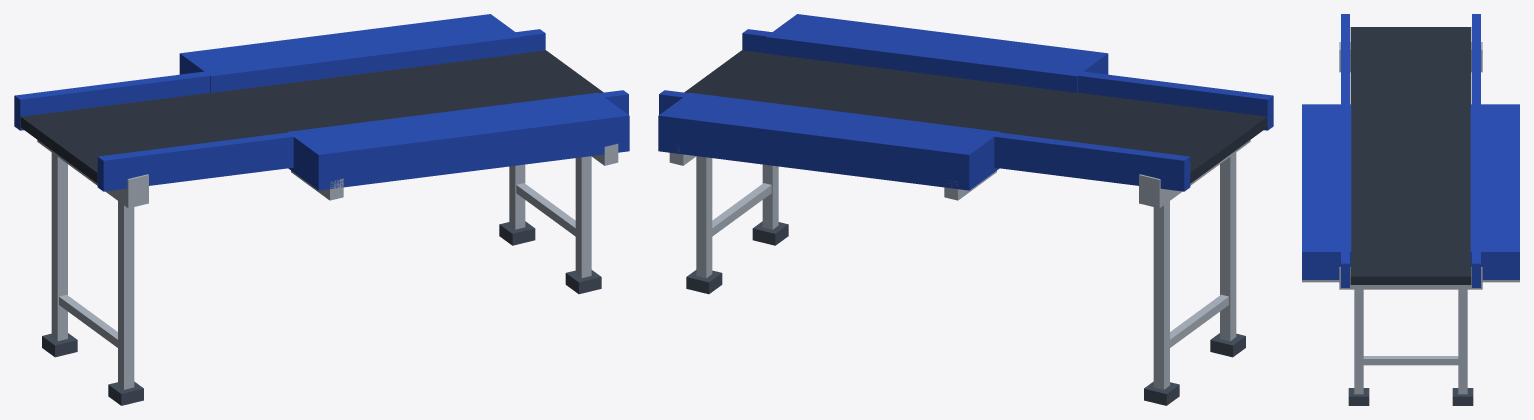
Rendered from SM_MPR_CADSupplyBelt_2CCF66.fbx.
The picture shows the model from 3 angles, left to right: view 1: azimuth 30°, elevation 25°; view 2: azimuth 150°, elevation 25°; view 3: azimuth 270°, elevation 25°; orthographic projection. The views are drawn at different scales.
Visible parts, largest first — view 1: SM_MPR_CADSupplyBelt_2CCF66; view 2: SM_MPR_CADSupplyBelt_2CCF66; view 3: SM_MPR_CADSupplyBelt_2CCF66.
Boxes of the visible parts, box(x1,y1,x2,y2) form: SM_MPR_CADSupplyBelt_2CCF66: box(14, 14, 629, 405); SM_MPR_CADSupplyBelt_2CCF66: box(658, 14, 1273, 405); SM_MPR_CADSupplyBelt_2CCF66: box(1302, 14, 1519, 405).
Size of the model in its own units: 231 by 106 by 107.
